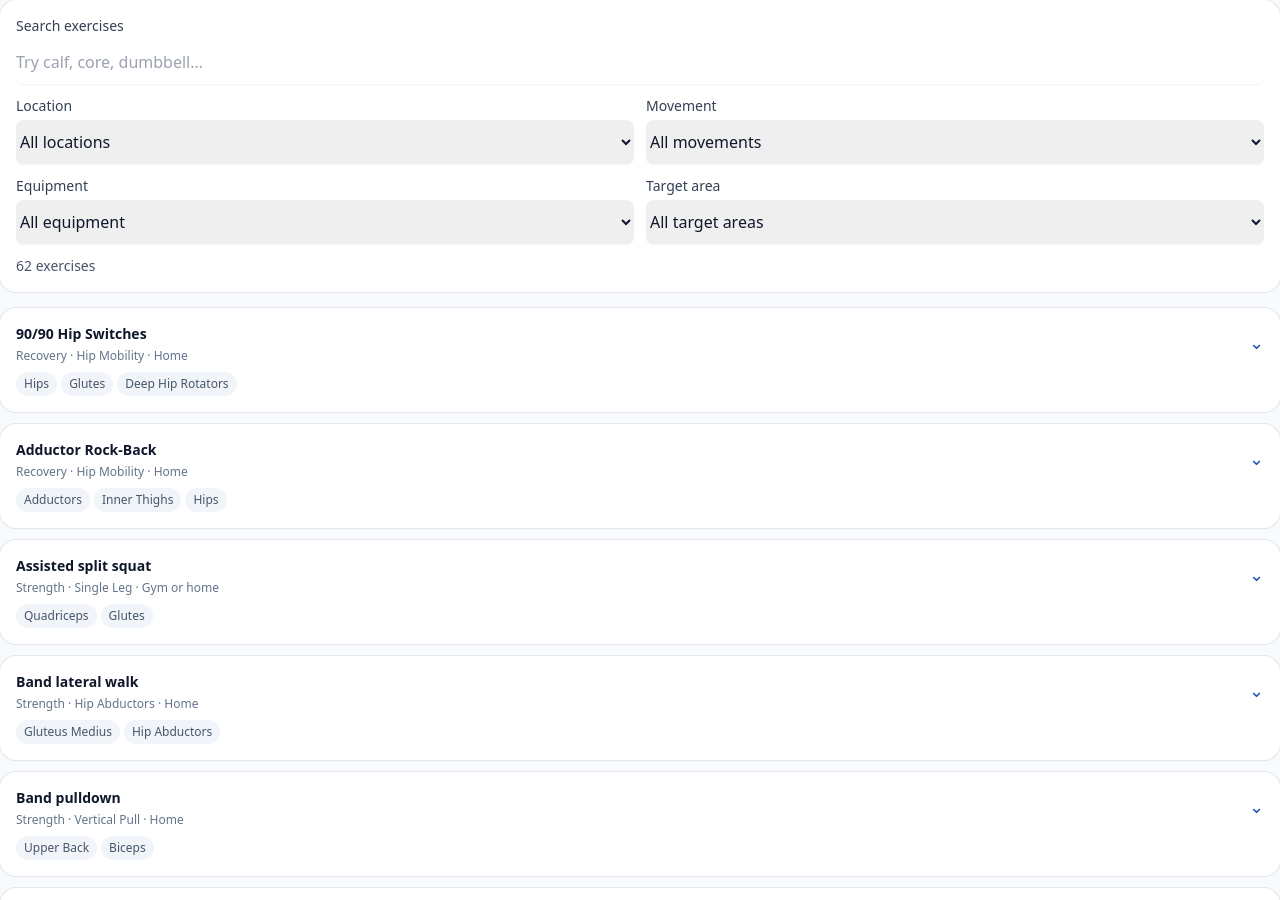
Scenario: ExerciseLibraryBrowser › shows a helpful empty state for incompatible filters
Select "Home" in the dropdown labelled "Location" at (325, 142), box [16,120,634,164]
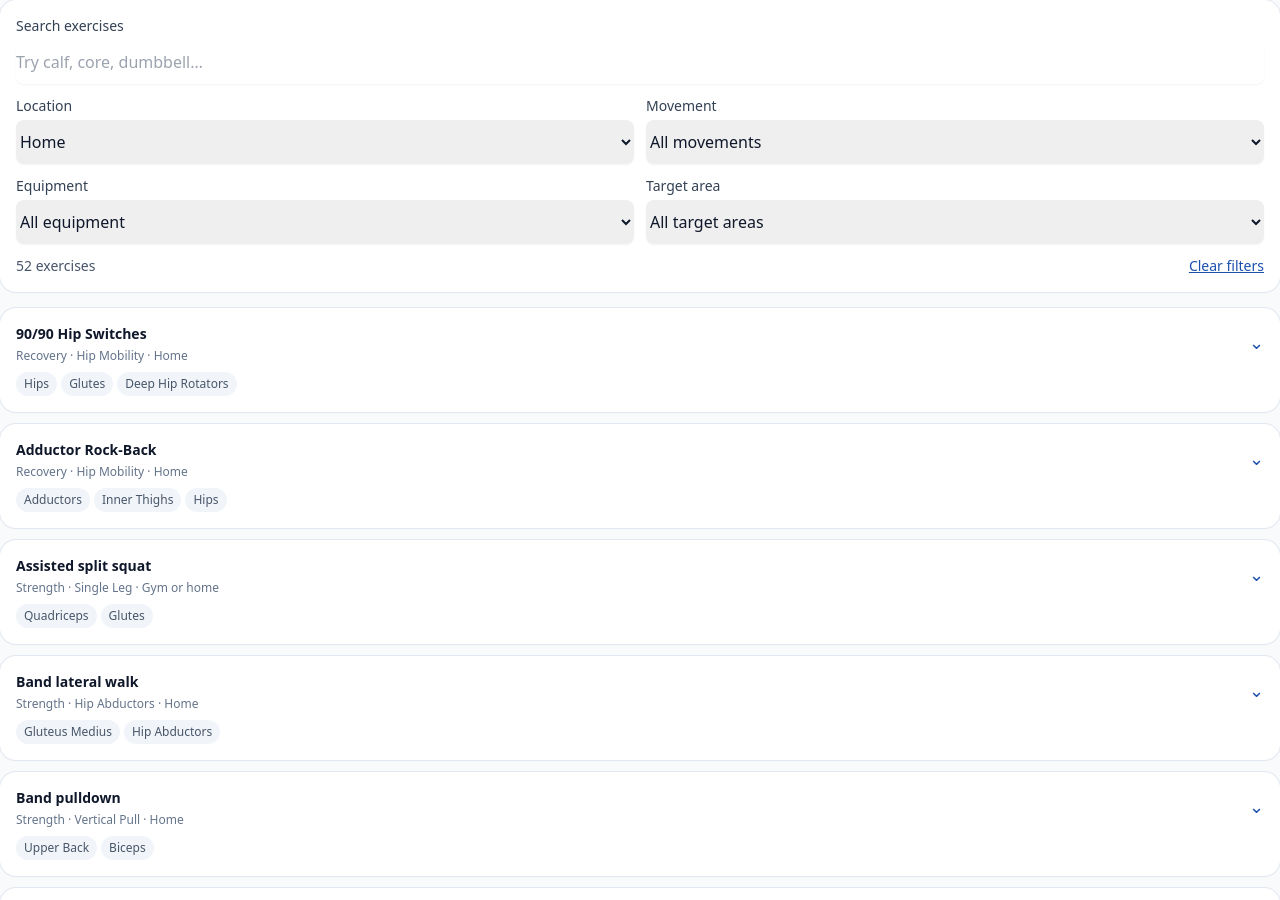
Select "Standing Calf Raise Machine" in the dropdown labelled "Equipment" at (325, 222), box [16,200,634,244]
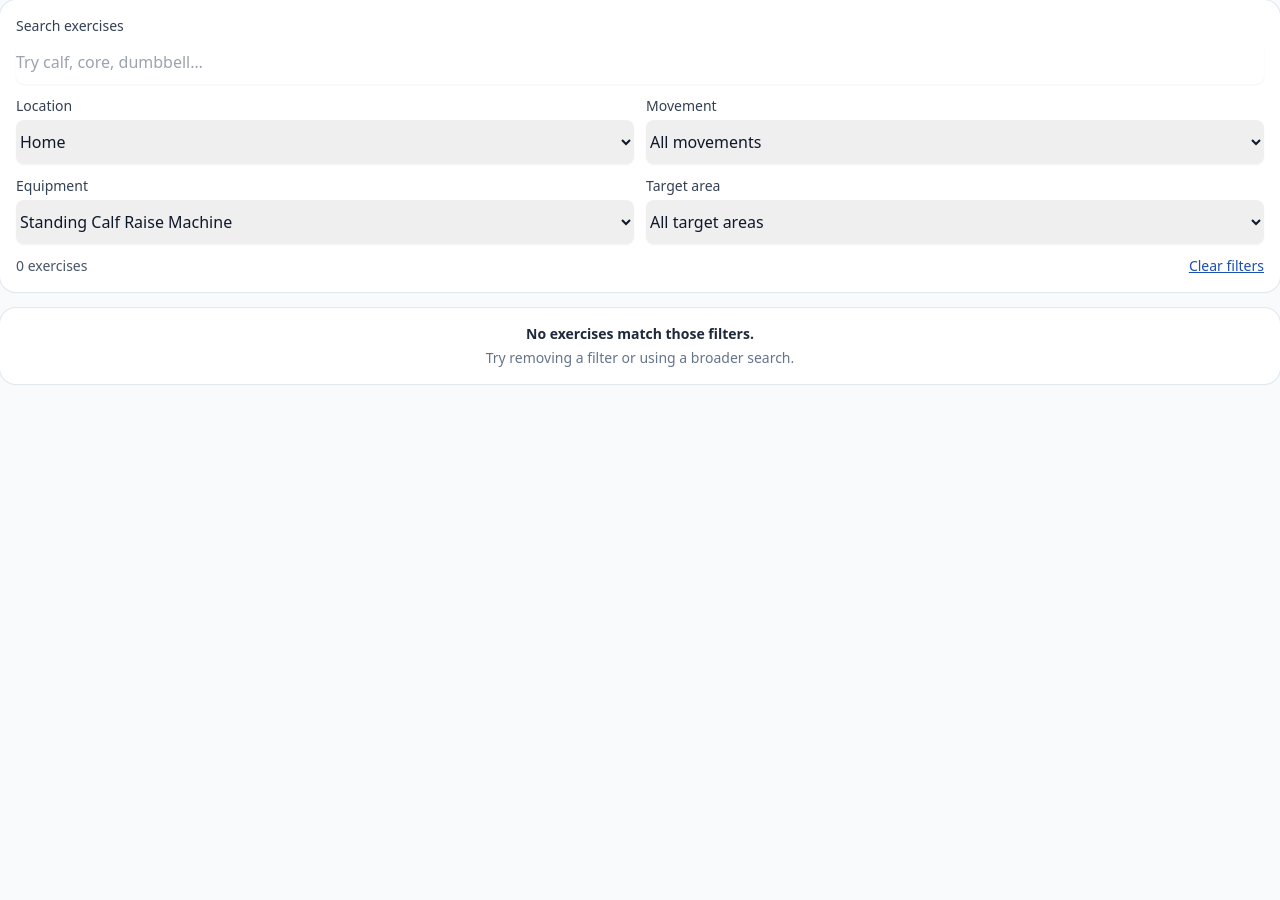
Result: the text "No exercises match those filters." is shown at [526,324,754,343]
